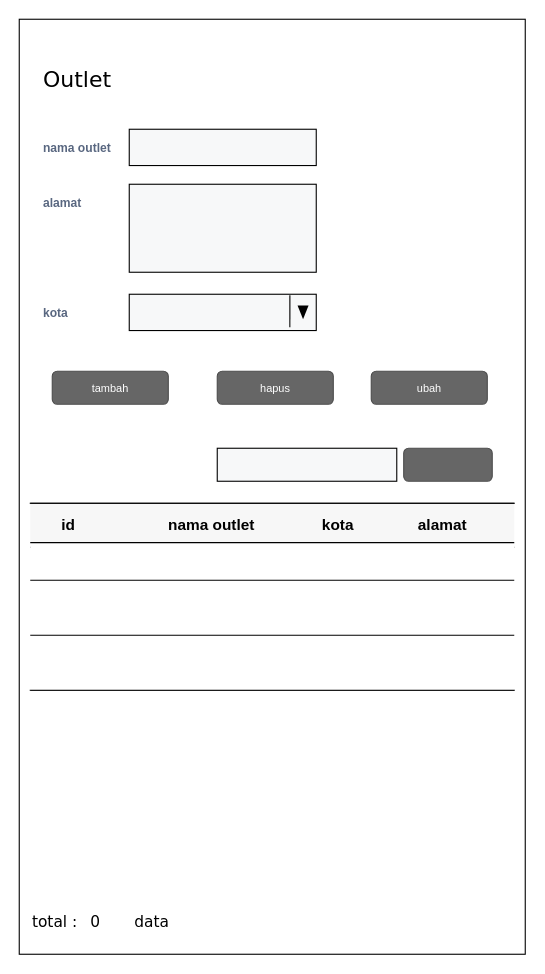
Some shapes in this 545 by 974 pixel diagram are drawn without their labels. The centre of each missing label's shape, as x and y in pixels:
"cari" belongs at pixel 447 464.
"pilih kota" belongs at pixel 222 312.
